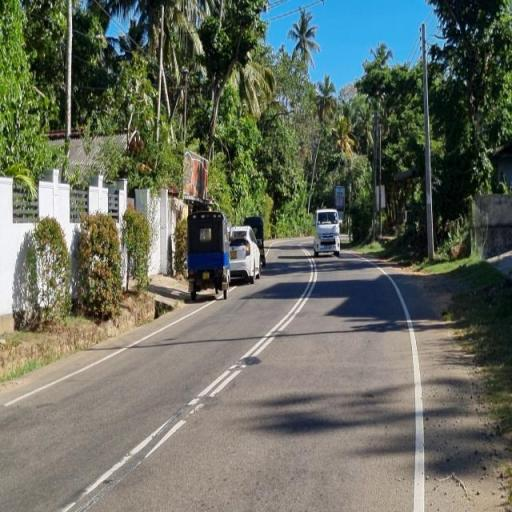double_white_line: (189, 259, 316, 414)
